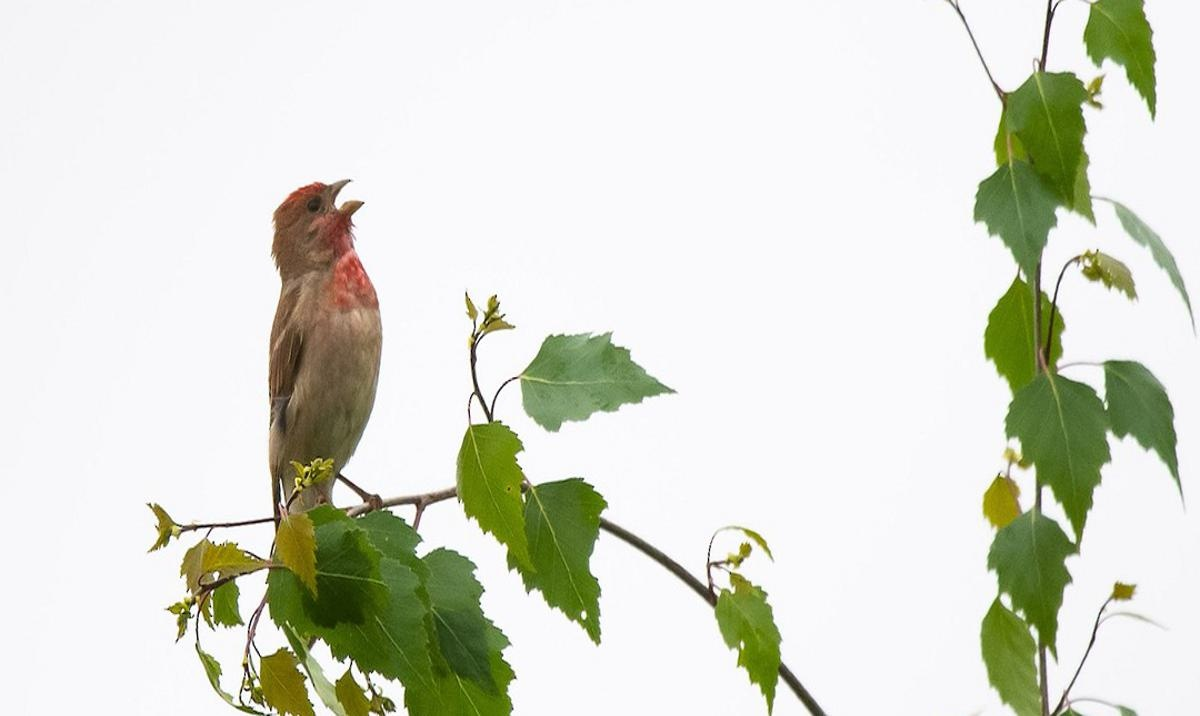rosefinch: (249, 162, 398, 532)
